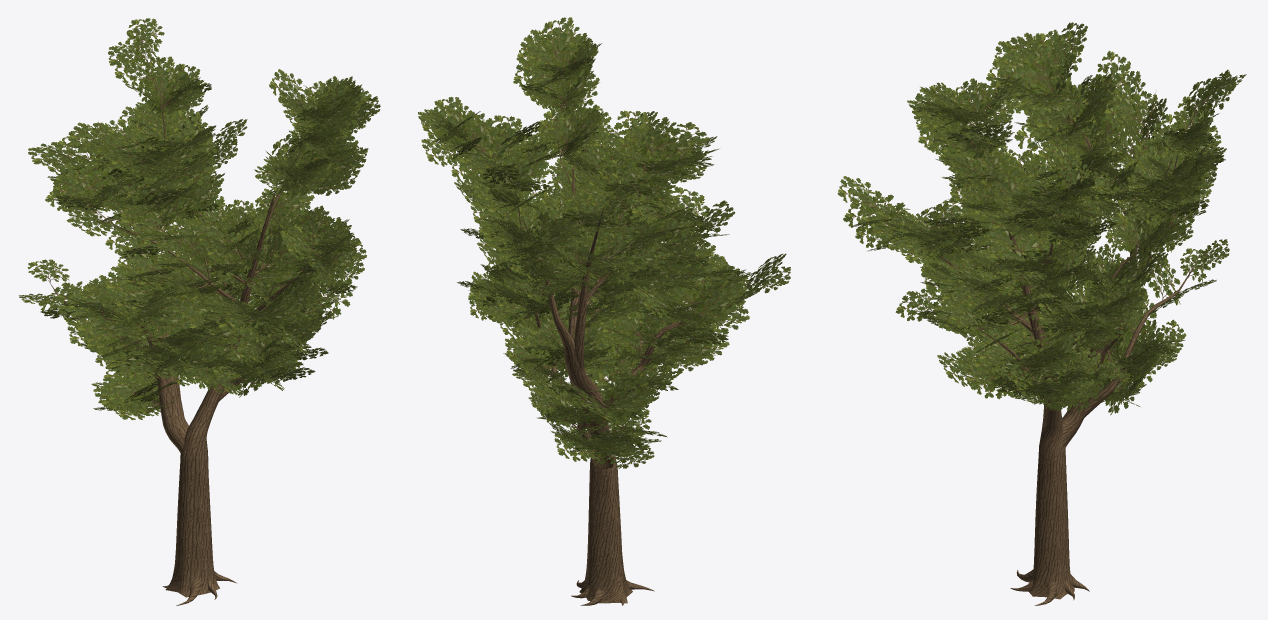
File: corealm_oak_5.glb
3 views of the same model, side by side, from view 1: azimuth 30°, elevation 25°; view 2: azimuth 150°, elevation 25°; view 3: azimuth 270°, elevation 25° (orthographic). The views are drawn at different scales.
Parts seen in each view (by area): view 1: corealm_oak_5; view 2: corealm_oak_5; view 3: corealm_oak_5.
Boxes of the visible parts, x1,y1,x2,y2 form: corealm_oak_5: [19, 18, 380, 605]; corealm_oak_5: [418, 17, 790, 605]; corealm_oak_5: [837, 22, 1246, 605].
Size of the model in its own units: 12.71 by 18.03 by 12.59.
Materials: 2 (2 with a texture image).
